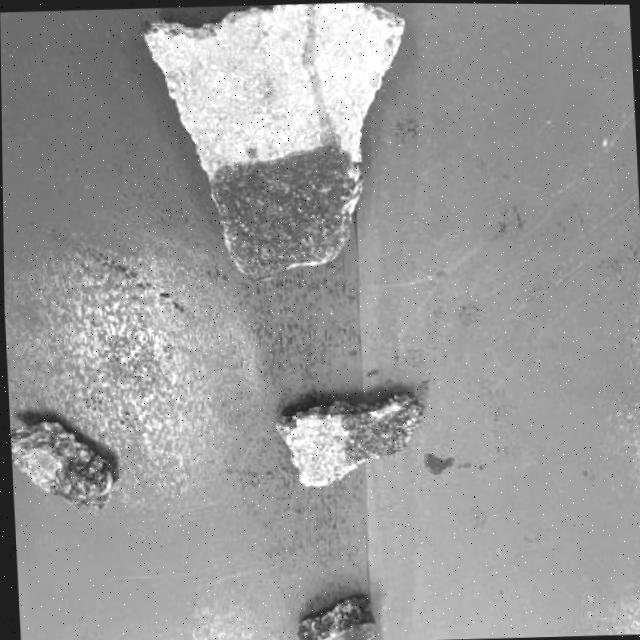Road Debris: (214, 131, 352, 279), (340, 390, 414, 464), (41, 433, 116, 505), (299, 602, 368, 640)
